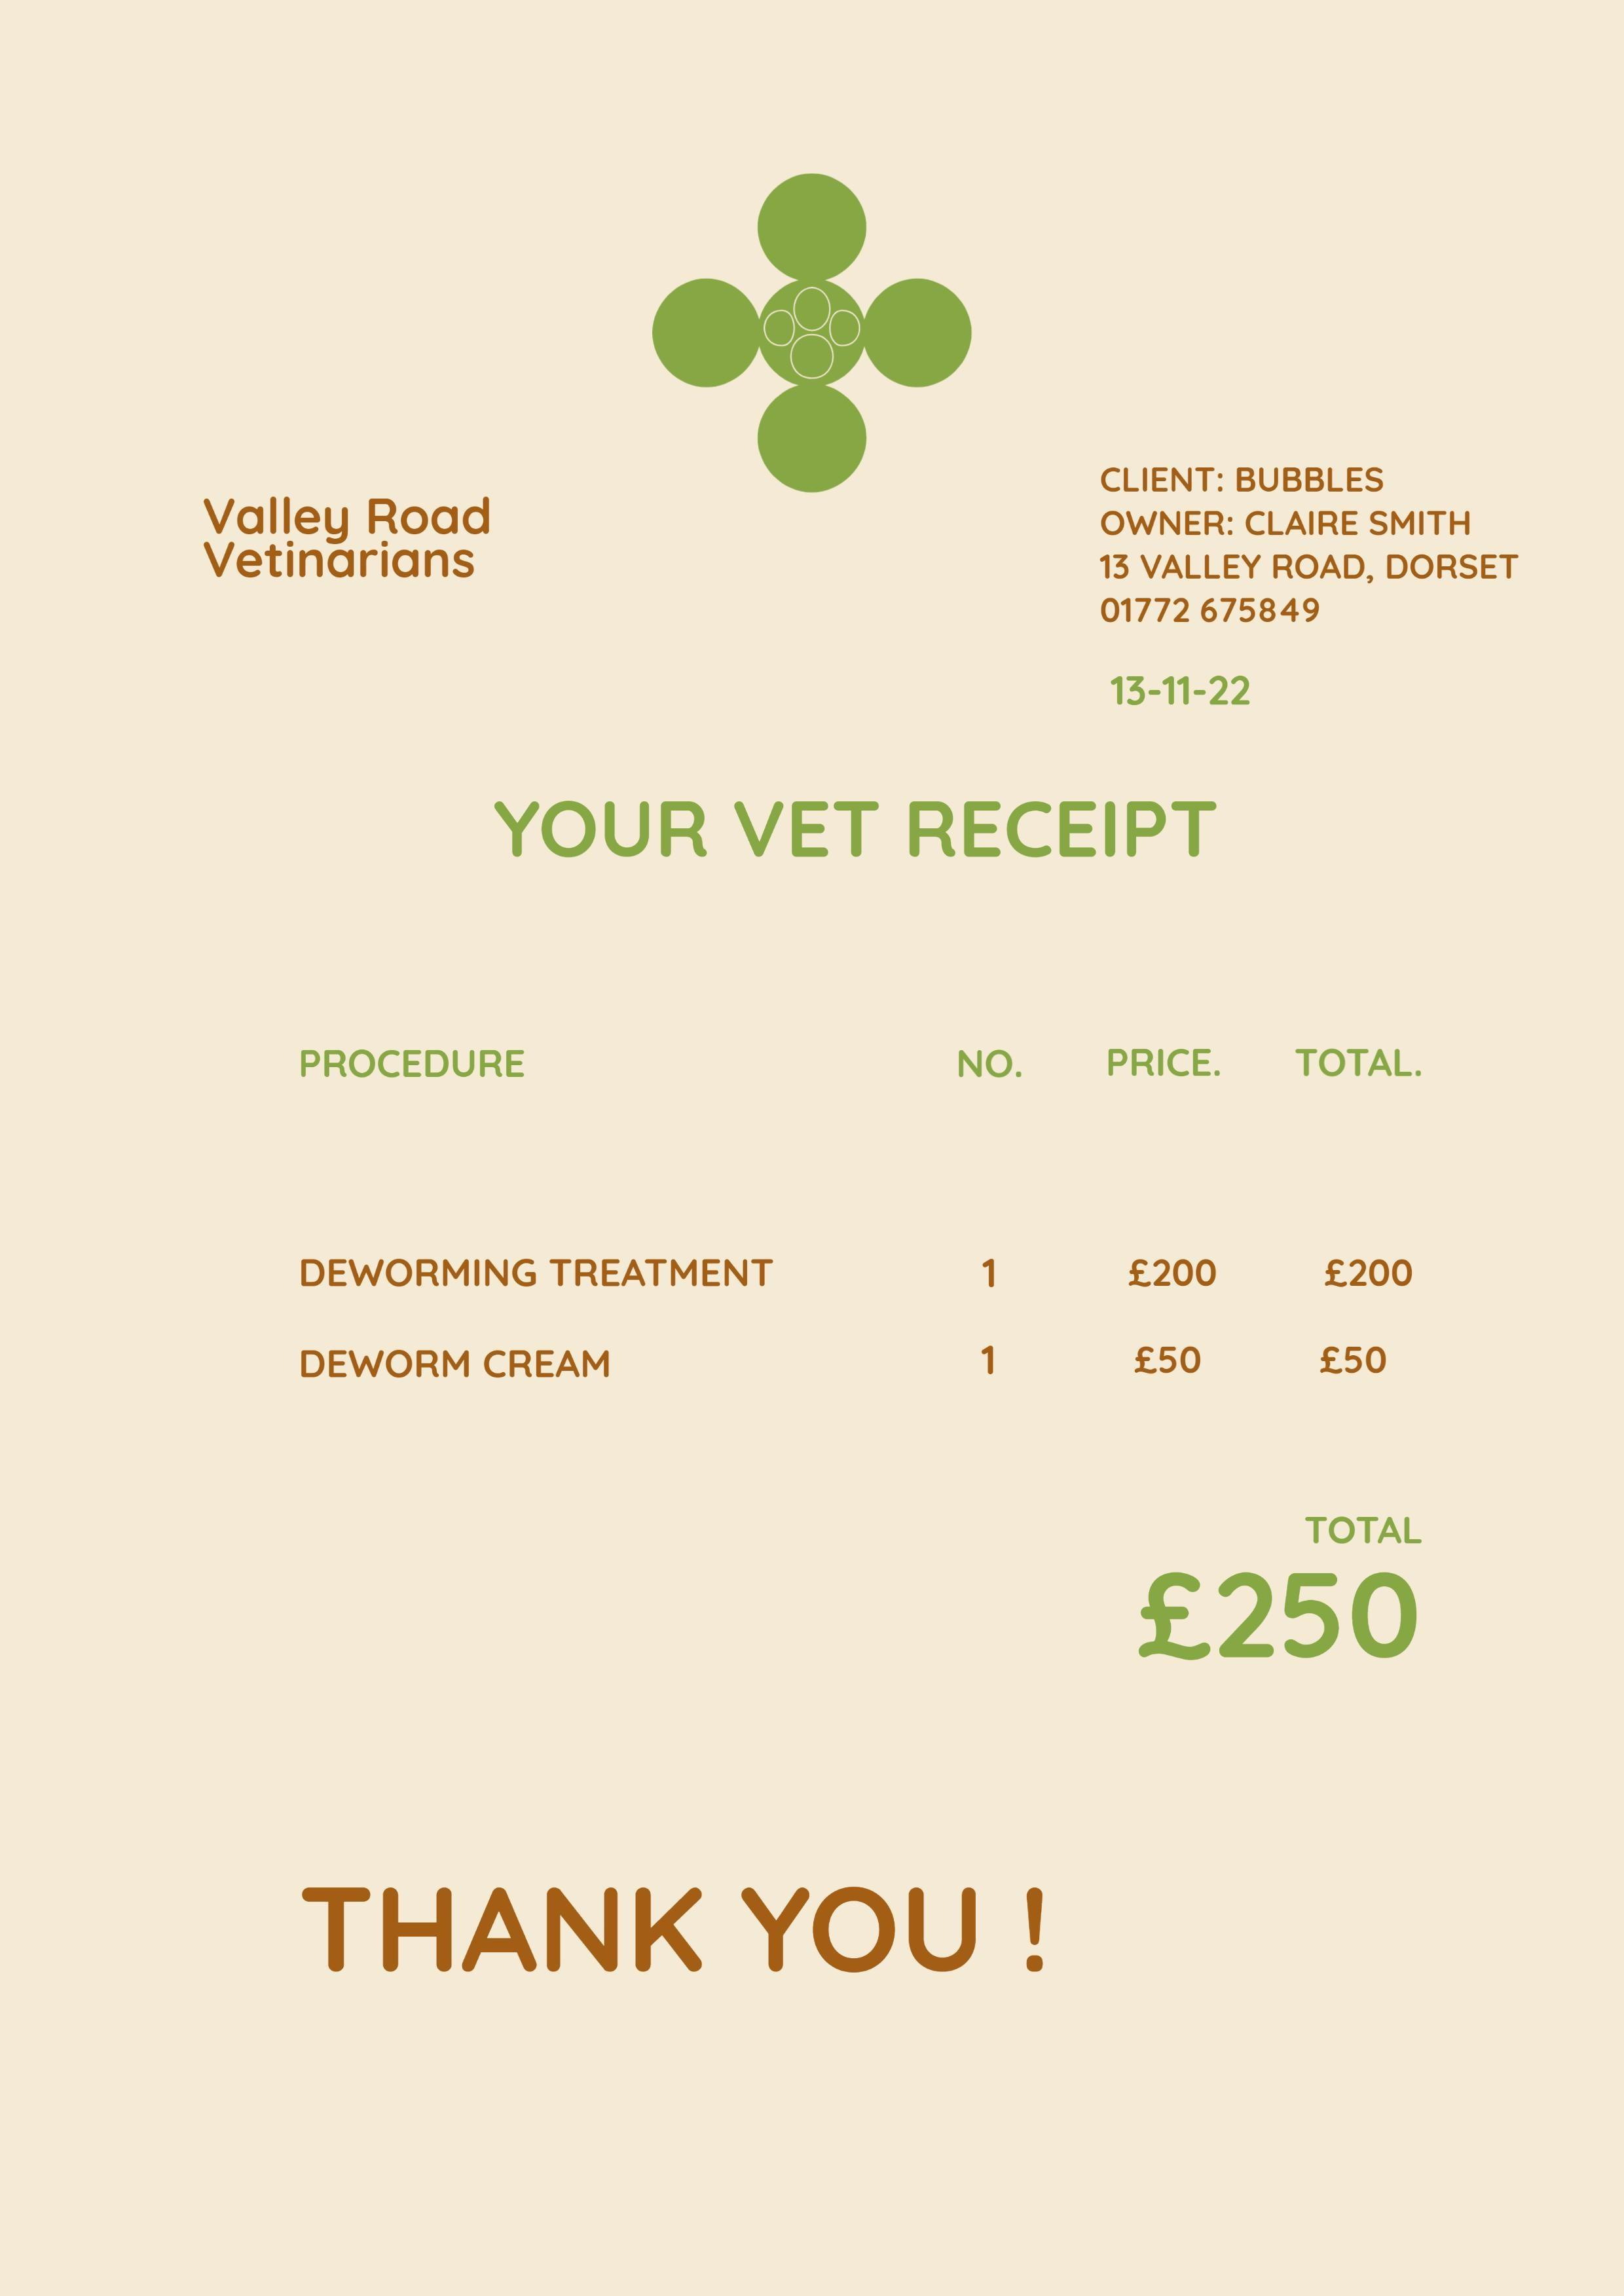ROI: (272, 1034, 1478, 1400), (1087, 439, 1539, 645), (1123, 1495, 1454, 1663), (187, 481, 517, 609), (1094, 661, 1263, 720)
